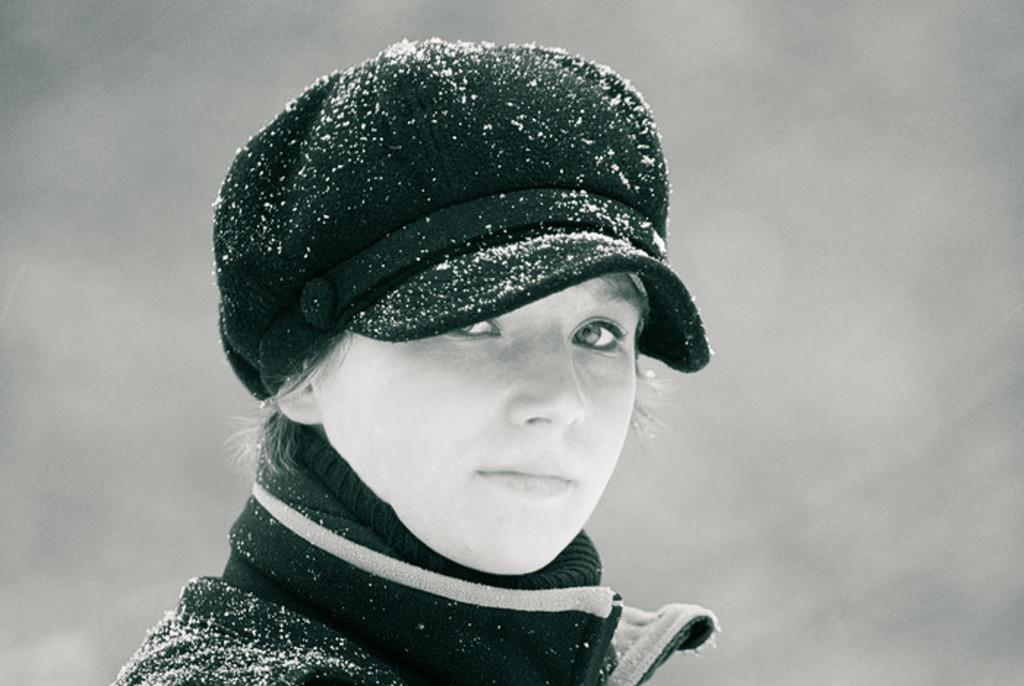Hat: (214, 38, 714, 396)
